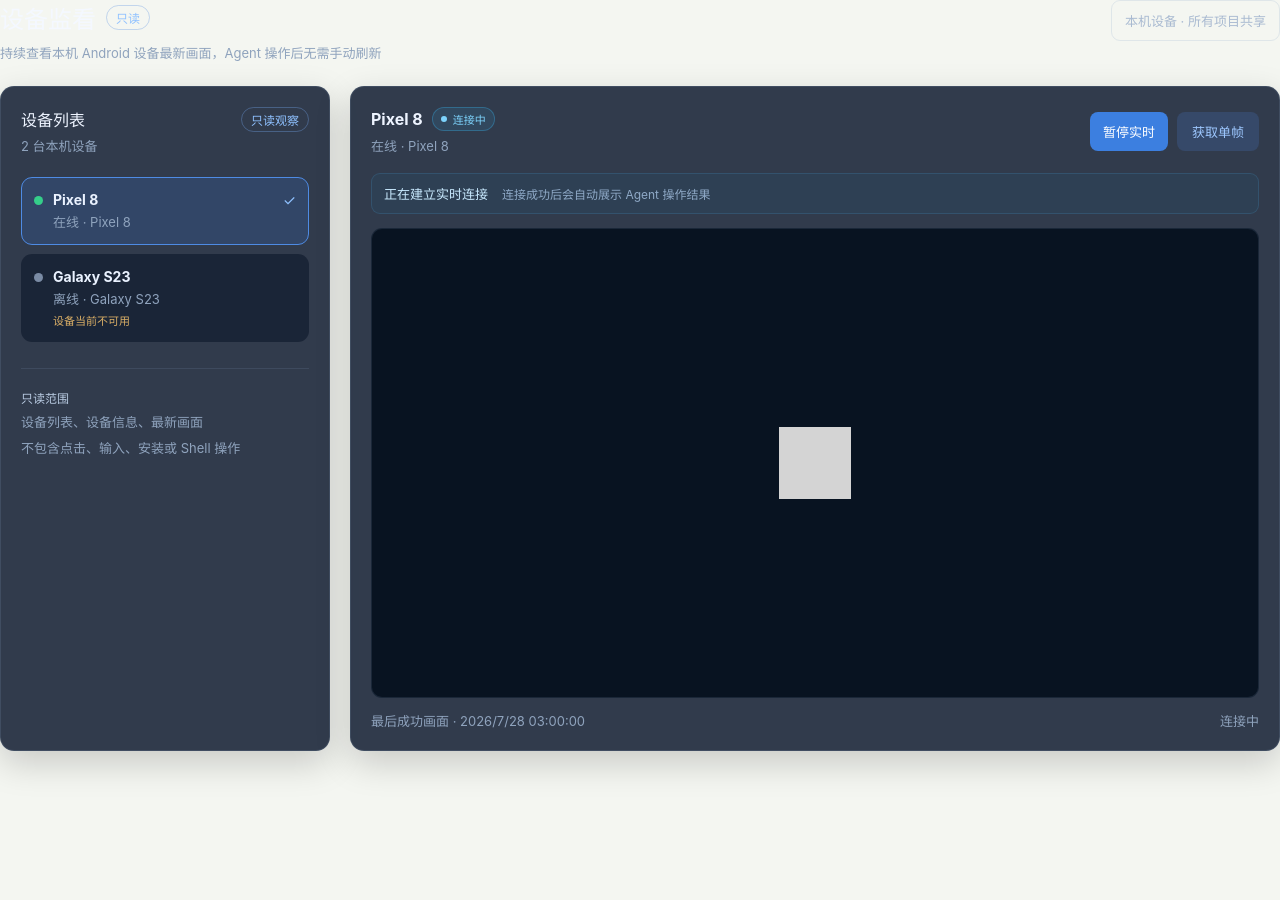
Test: AndroidDeviceMonitorPage.vue › keeps the last successful frame visible when a manual refresh fails
Click the button with class "single-frame-button" at (1218, 131), box [1177,112,1259,150]
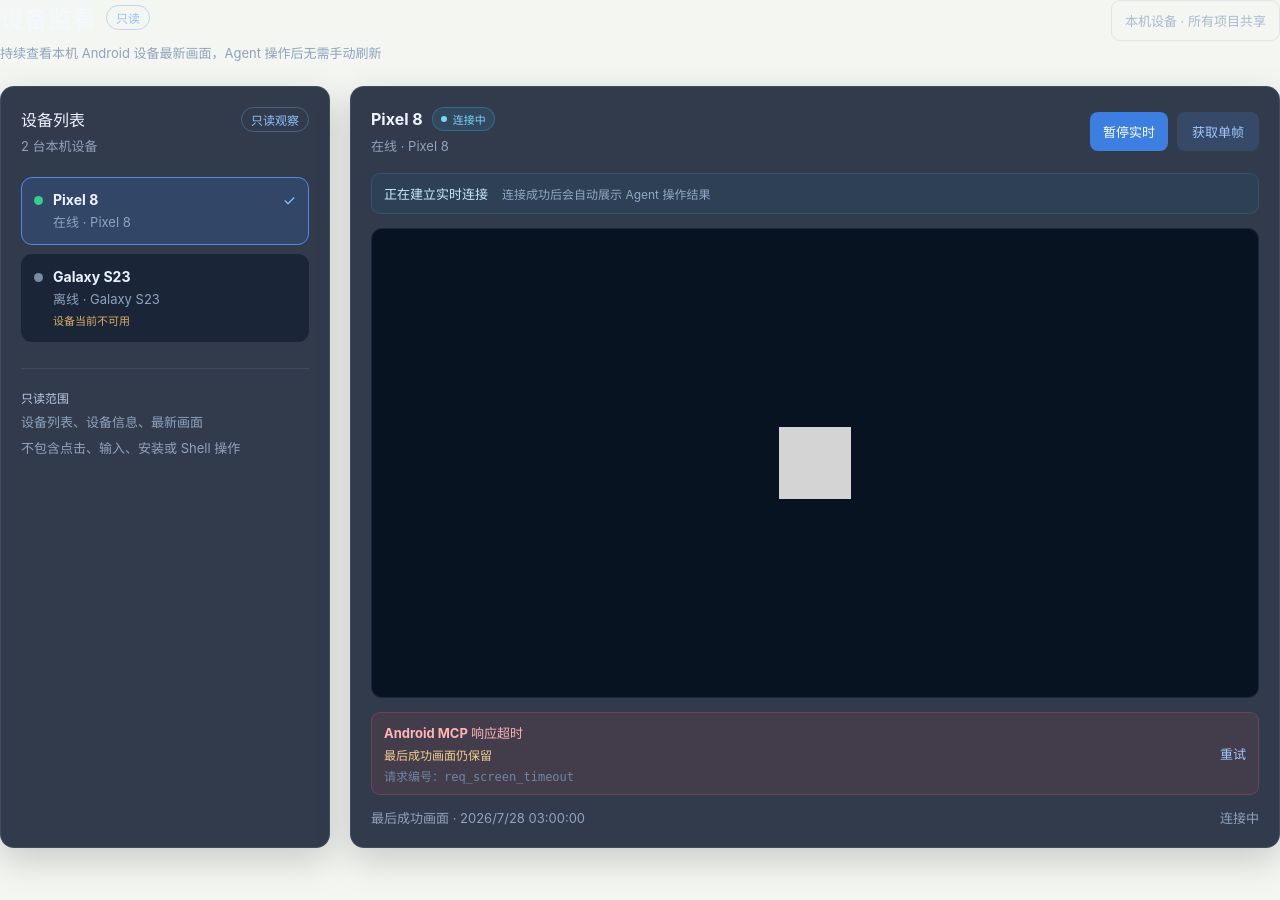
Result: the text "最后成功画面仍保留" is shown at [384,748,492,763]
Result: the text "req_screen_timeout" is shown at [384,770,574,784]
